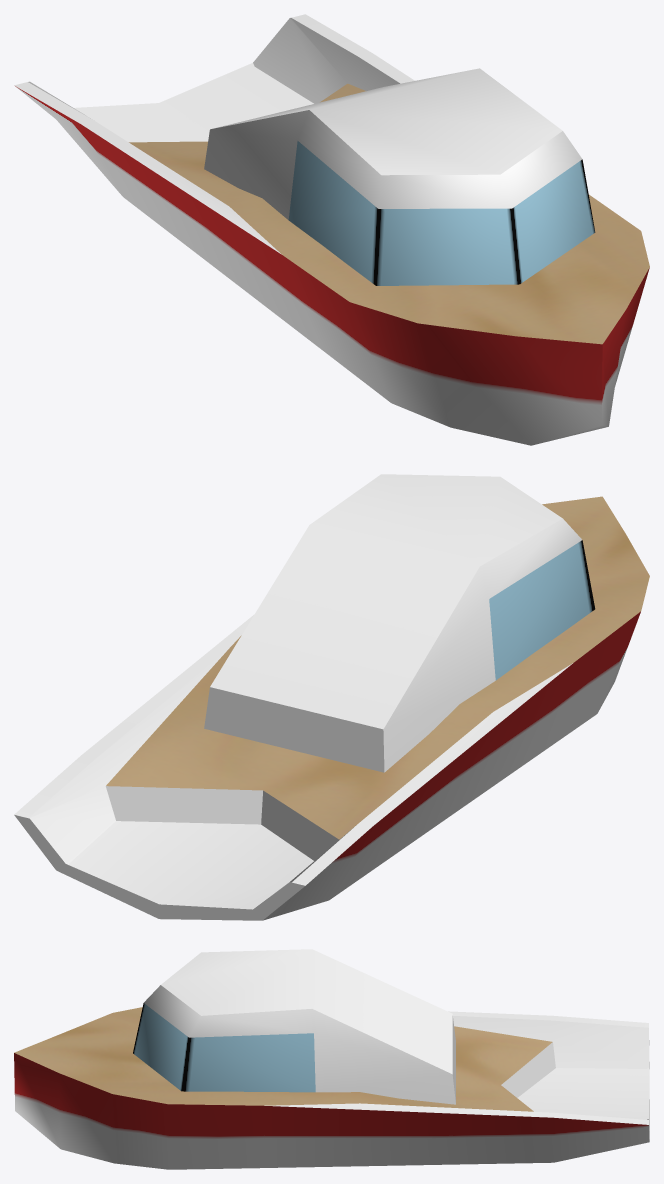
Rendered from ship2.fbx.
3 views of the same model, one above another, from view 1: azimuth 30°, elevation 25°; view 2: azimuth 150°, elevation 25°; view 3: azimuth 270°, elevation 25° (orthographic). The views are drawn at different scales.
Visible parts, largest first — view 1: Cube; view 2: Cube; view 3: Cube.
Part boxes in pixels (<box>): Cube: <box>14,14,649,445</box>; Cube: <box>14,474,649,920</box>; Cube: <box>14,949,649,1169</box>.
Bounding box in the file's own units: 200 × 143 × 527.
